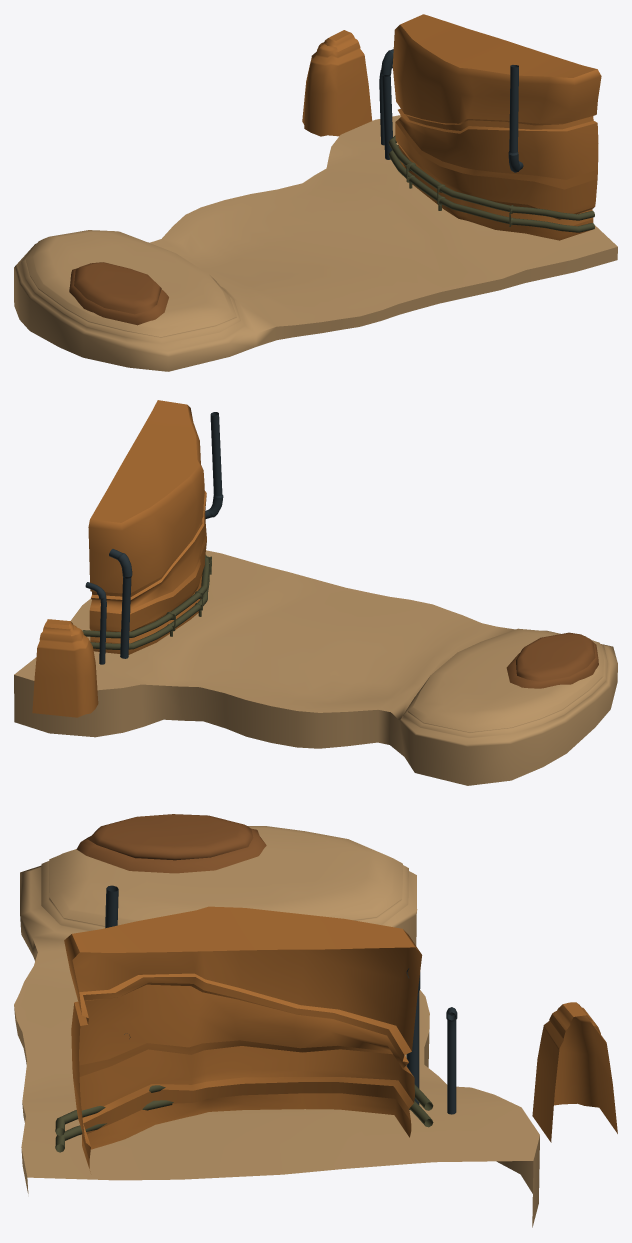
The model's file is ForeGround Ground.fbx.
The picture shows the model from 3 angles, top to bottom: view 1: azimuth 30°, elevation 25°; view 2: azimuth 150°, elevation 25°; view 3: azimuth 270°, elevation 25°; orthographic projection. The views are drawn at different scales.
Visible parts, largest first — view 1: Ground, RightWall, MntSeparation, SecondTierGrnd, SteamPipesRoundRght, FrntPipe, RightUpPipe_01; view 2: Ground, RightWall, MntSeparation, SecondTierGrnd, SteamPipesRoundRght, RightUpPipe_01, FrntPipe, RightUpPipe_02; view 3: RightWall, Ground, SecondTierGrnd, MntSeparation, SteamPipesRoundRght, RightUpPipe_02, RightUpPipe_01.
Part boxes in pixels (x1,y1,x2,y2): Ground: (14, 115, 617, 371); RightWall: (392, 14, 601, 240); MntSeparation: (302, 30, 372, 136); SecondTierGrnd: (69, 262, 168, 325); SteamPipesRoundRght: (388, 135, 594, 232); FrntPipe: (508, 65, 523, 172); RightUpPipe_01: (381, 49, 393, 159); Ground: (14, 550, 617, 785); RightWall: (88, 400, 206, 654); MntSeparation: (32, 619, 98, 717); SecondTierGrnd: (506, 632, 598, 688); SteamPipesRoundRght: (82, 555, 211, 649); RightUpPipe_01: (109, 549, 132, 658); FrntPipe: (205, 412, 223, 519); RightUpPipe_02: (85, 582, 106, 664); RightWall: (64, 906, 422, 1171); Ground: (14, 826, 539, 1227); SecondTierGrnd: (76, 814, 266, 873); MntSeparation: (532, 1002, 617, 1142); SteamPipesRoundRght: (55, 1084, 433, 1152); RightUpPipe_02: (446, 1007, 457, 1114); RightUpPipe_01: (406, 968, 420, 1109).
Bounding box in the file's own units: 597 × 251 × 451.
